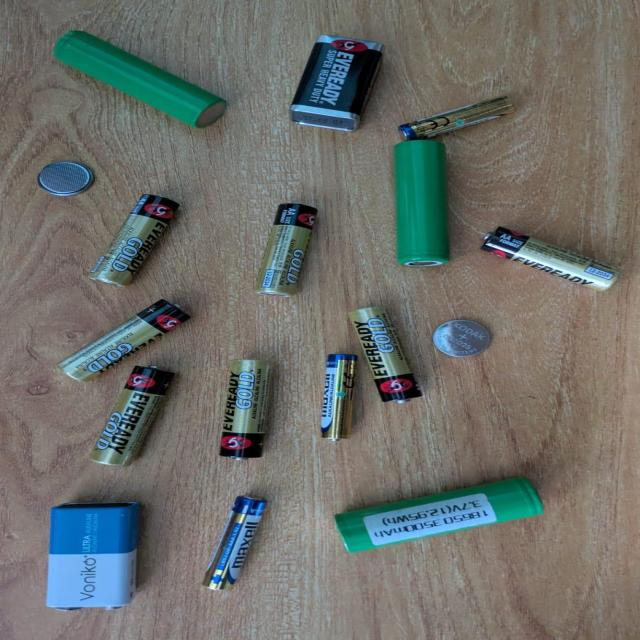9V: (46, 501, 138, 611), (288, 35, 387, 131)
AA: (58, 301, 188, 383), (84, 195, 183, 287), (478, 227, 620, 291), (86, 365, 175, 467), (346, 306, 422, 400), (252, 203, 319, 298), (217, 359, 272, 458)
AAA: (194, 496, 280, 592), (397, 95, 514, 141), (319, 354, 357, 440)
COIN: (431, 320, 492, 358), (36, 161, 94, 197)
